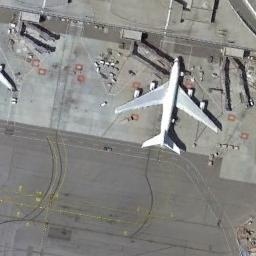Airplane: (114, 55, 222, 154)
